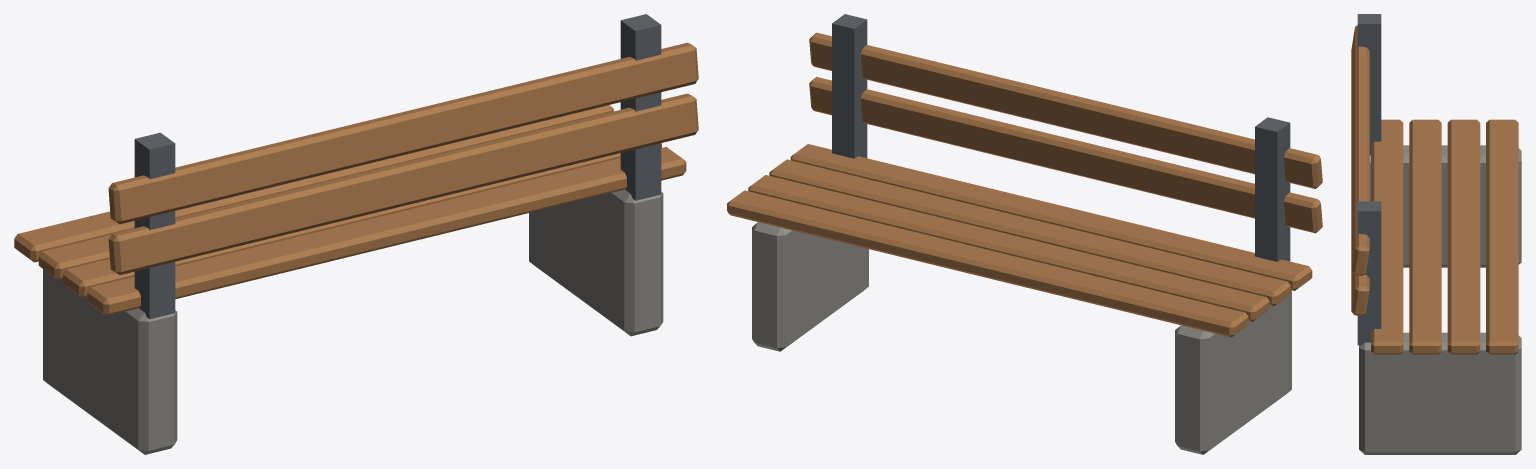
File: PD_Bench.fbx
3 renders of one model, left to right at view 1: azimuth 30°, elevation 25°; view 2: azimuth 150°, elevation 25°; view 3: azimuth 270°, elevation 25°, orthographic. The views are drawn at different scales.
Parts seen in each view (by area): view 1: PD_Bench_Mesh; view 2: PD_Bench_Mesh; view 3: PD_Bench_Mesh.
Boxes of the visible parts, x1,y1,x2,y2 form: PD_Bench_Mesh: (14, 14, 698, 454); PD_Bench_Mesh: (727, 14, 1322, 454); PD_Bench_Mesh: (1351, 14, 1521, 454).
Size of the model in its own units: 1.8 by 0.91 by 0.5757.
